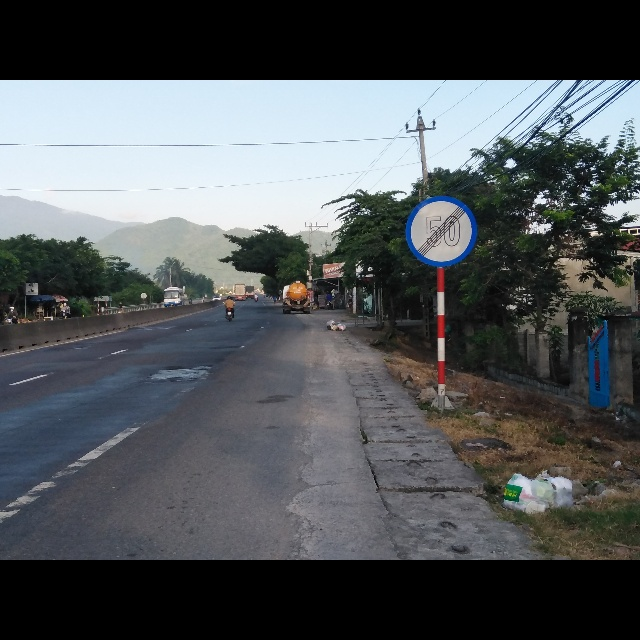Hết hạn chế tốc độ tối đa 50km/h: (402, 196, 478, 270)
